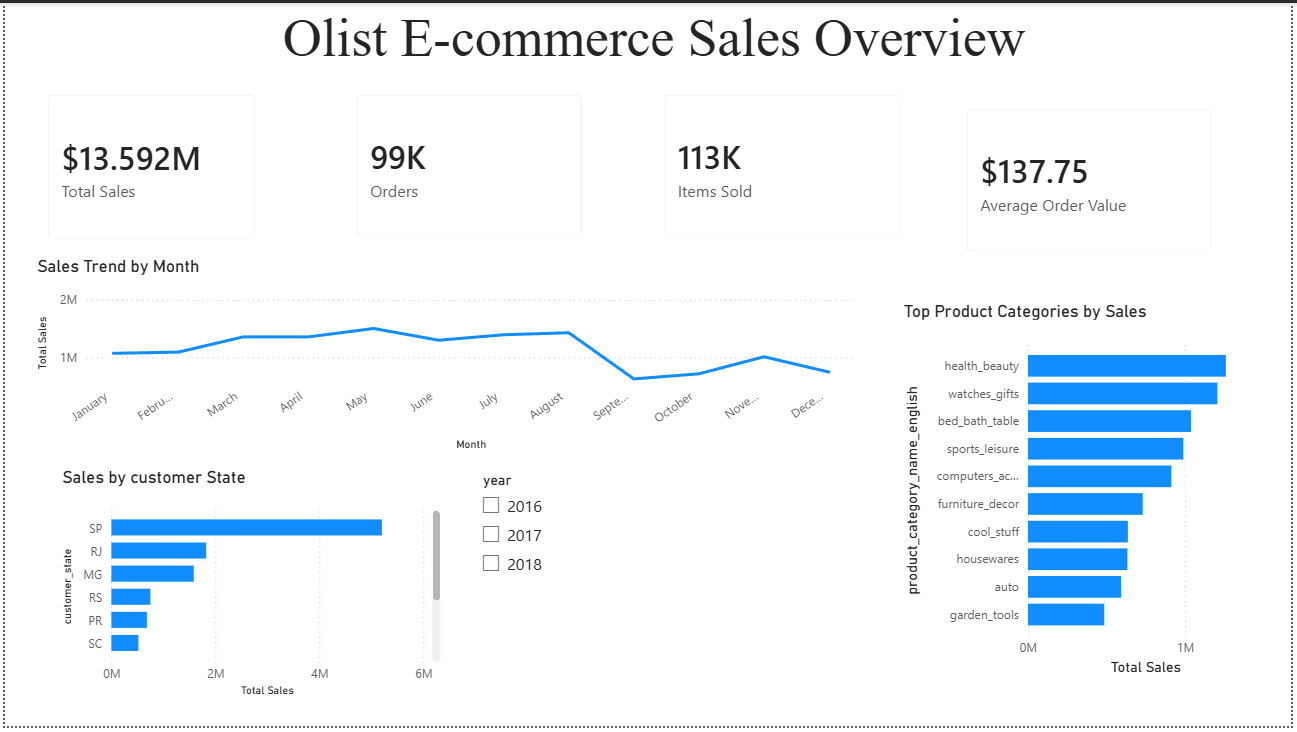

Layout of this report page (visuals, bound fields, positions):
{"tool":"powerbi","page":{"name":"Page 1","canvas":[1280,720],"ordinal":0},"visuals":[{"type":"textbox","box":[11.2,0,1269.3,88.4],"z":0},{"type":"cardVisual","fields":{"Data":["gold fact_sales.Orders"]},"box":[333.8,75,258.7,176.6],"z":1000},{"type":"cardVisual","fields":{"Data":["gold fact_sales.Items Sold"]},"box":[640,75,269.9,176.6],"z":2000},{"type":"cardVisual","fields":{"Data":["gold fact_sales.Average Order Value"]},"box":[940,88.8,277.4,176.6],"z":3000},{"type":"cardVisual","fields":{"Data":["gold fact_sales.Total Sales"]},"box":[26.2,75,240,177],"z":4000},{"type":"lineChart","title":"Sales Trend by Month","fields":{"Category":["gold dim_date.full_date.Variation.Date Hierarchy.Year","gold dim_date.full_date.Variation.Date Hierarchy.Month","gold dim_date.Month Start.Variation.Date Hierarchy.Year","gold dim_date.Month Start.Variation.Date Hierarchy.Quarter","gold dim_date.Month Start.Variation.Date Hierarchy.Month","gold dim_date.Month Start.Variation.Date Hierarchy.Day"],"Y":["gold fact_sales.Total Sales"]},"box":[27.5,251.2,823.8,198.8],"z":5000},{"type":"clusteredBarChart","title":"Top Product Categories by Sales","fields":{"Y":["gold fact_sales.Total Sales"],"Category":["gold dim_product.product_category_name_english"]},"box":[890,296.2,377.5,377.5],"z":6000},{"type":"clusteredBarChart","title":"Sales by customer State","fields":{"Category":["gold dim_customer.customer_state"],"Y":["gold fact_sales.Total Sales"]},"box":[52.5,461.2,386.2,233.8],"z":7000},{"type":"slicer","fields":{"Values":["gold dim_date.year"]},"box":[462.5,461.2,408.8,193.8],"z":8000}]}

Visuals, with their boxes in screenshot pixels (x1, y1, x2, y2), scaled from the page's 1280x720 canvas onto the 1297x732 screenshot:
textbox: <bbox>11, 0, 1296, 90</bbox>
cardVisual - gold fact_sales.Orders: <bbox>338, 76, 600, 256</bbox>
cardVisual - gold fact_sales.Items Sold: <bbox>648, 76, 922, 256</bbox>
cardVisual - gold fact_sales.Average Order Value: <bbox>952, 90, 1234, 270</bbox>
cardVisual - gold fact_sales.Total Sales: <bbox>27, 76, 270, 256</bbox>
"Sales Trend by Month" lineChart: <bbox>28, 255, 863, 458</bbox>
"Top Product Categories by Sales" clusteredBarChart: <bbox>902, 301, 1284, 685</bbox>
"Sales by customer State" clusteredBarChart: <bbox>53, 469, 445, 707</bbox>
slicer - gold dim_date.year: <bbox>469, 469, 883, 666</bbox>
